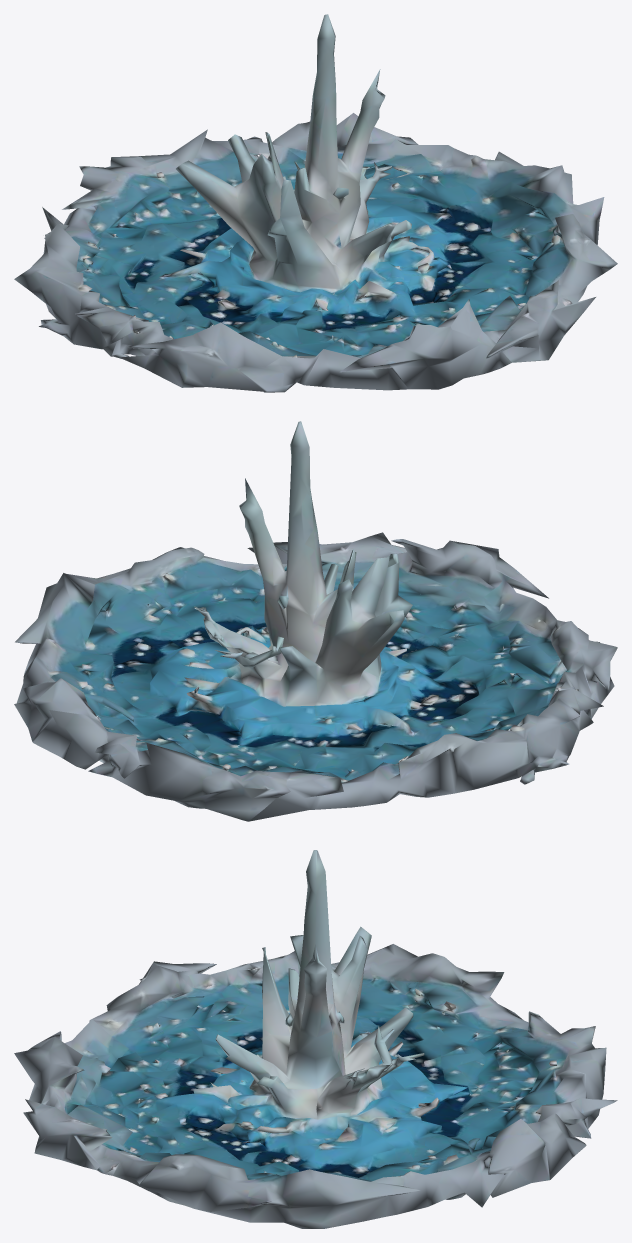
Rendered from ice_x.glb.
3 renders of one model, top to bottom at view 1: azimuth 30°, elevation 25°; view 2: azimuth 150°, elevation 25°; view 3: azimuth 270°, elevation 25°, orthographic. The views are drawn at different scales.
Parts seen in each view (by area): view 1: tripo_node_7300d434-7b92-4fbe-8d7e-26692ae11bb3; view 2: tripo_node_7300d434-7b92-4fbe-8d7e-26692ae11bb3; view 3: tripo_node_7300d434-7b92-4fbe-8d7e-26692ae11bb3.
Boxes of the visible parts, x1=… form: tripo_node_7300d434-7b92-4fbe-8d7e-26692ae11bb3: x1=14, y1=14, x2=617, y2=392; tripo_node_7300d434-7b92-4fbe-8d7e-26692ae11bb3: x1=14, y1=421, x2=617, y2=821; tripo_node_7300d434-7b92-4fbe-8d7e-26692ae11bb3: x1=14, y1=850, x2=617, y2=1228.
Size of the model in its own units: 0.976 by 0.4992 by 0.9643.
Materials: 1 (1 with a texture image).
